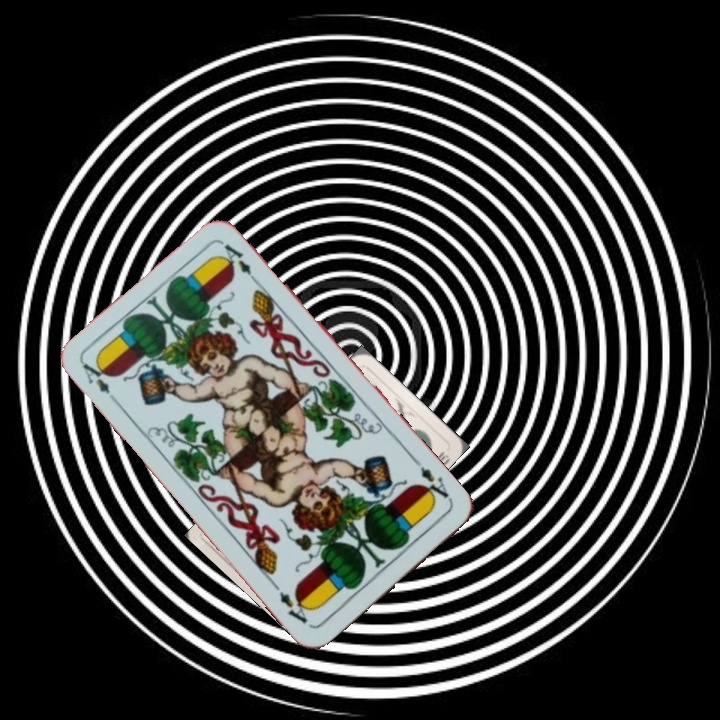EA: (78, 354, 122, 407), (410, 456, 455, 506)
